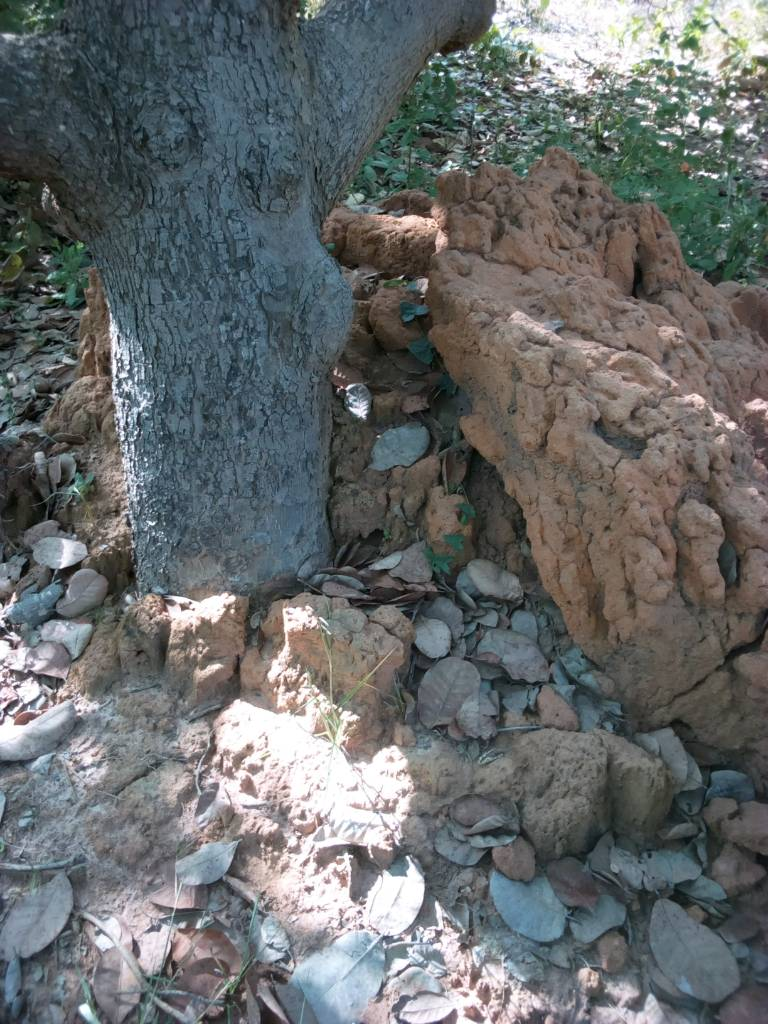Virose: (333, 160, 768, 807)
